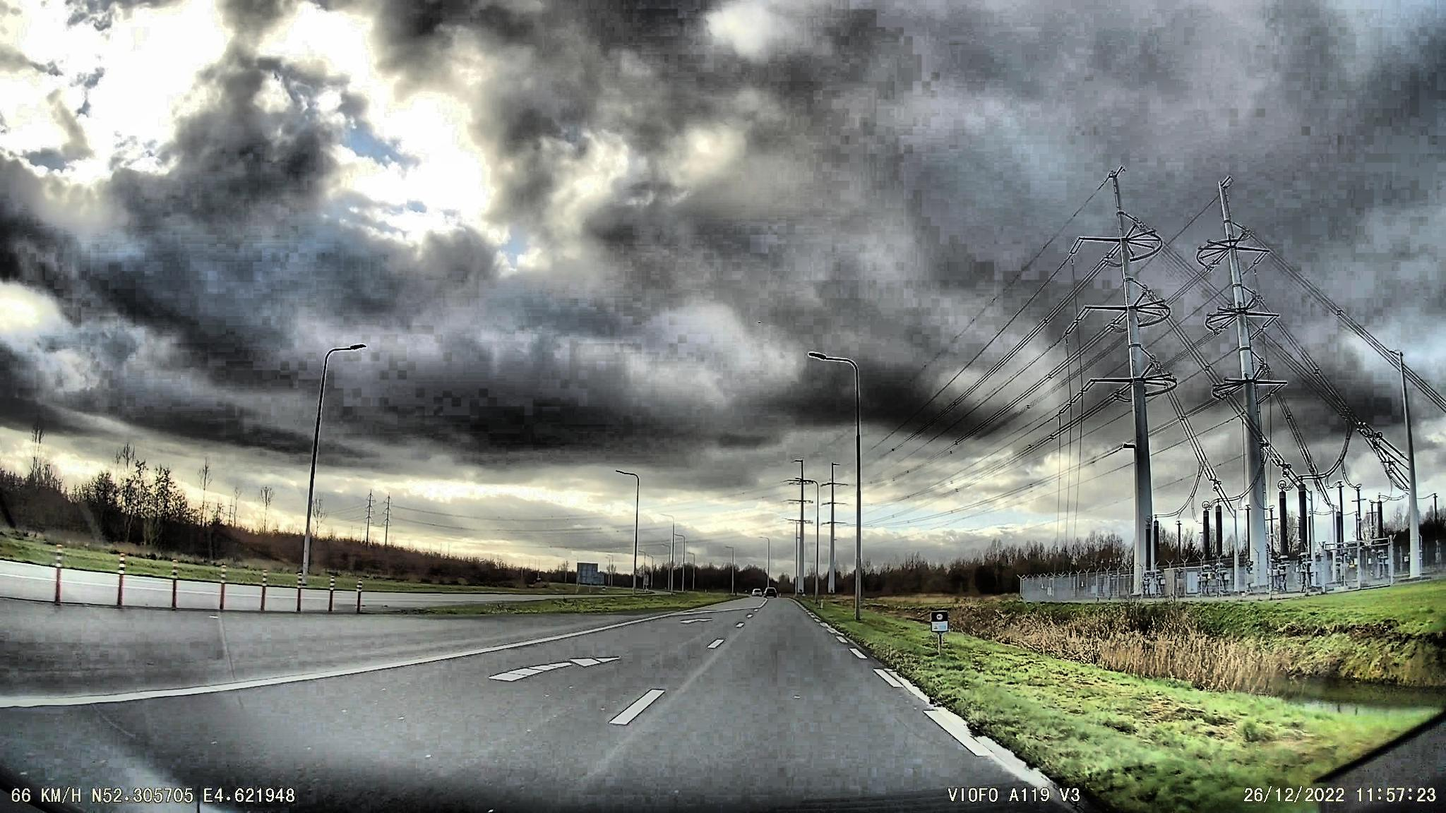Roads: (0, 597, 1105, 813)
